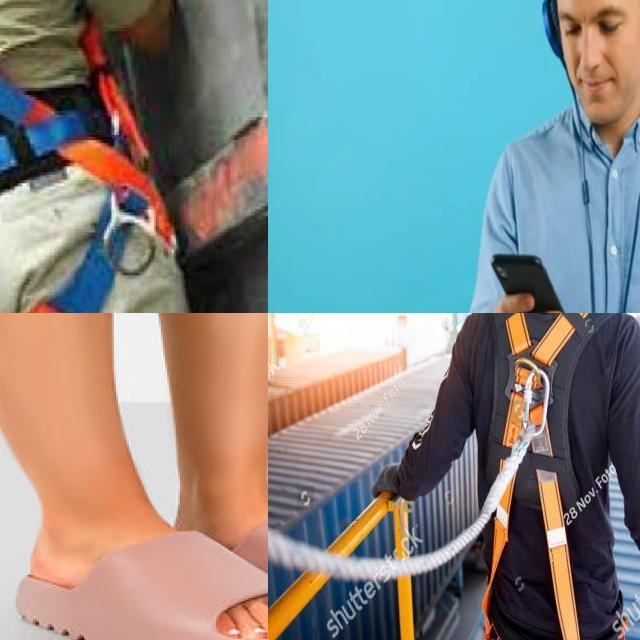Ear-protection: (540, 0, 640, 121)
Harness: (0, 0, 174, 313), (484, 313, 616, 640)
Sandals: (20, 501, 268, 640)
